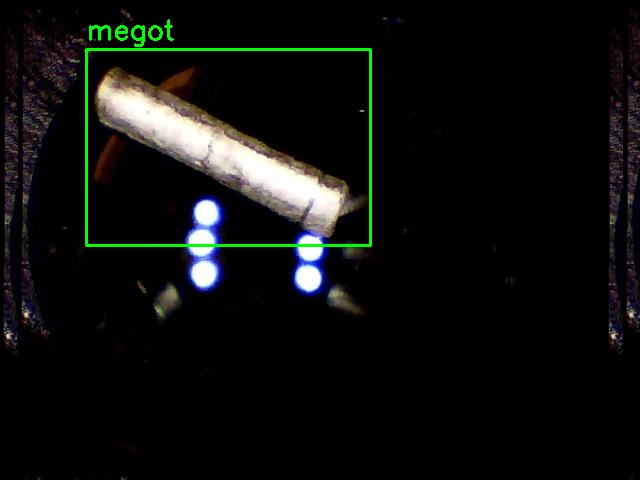megot: (86, 49, 370, 245)
